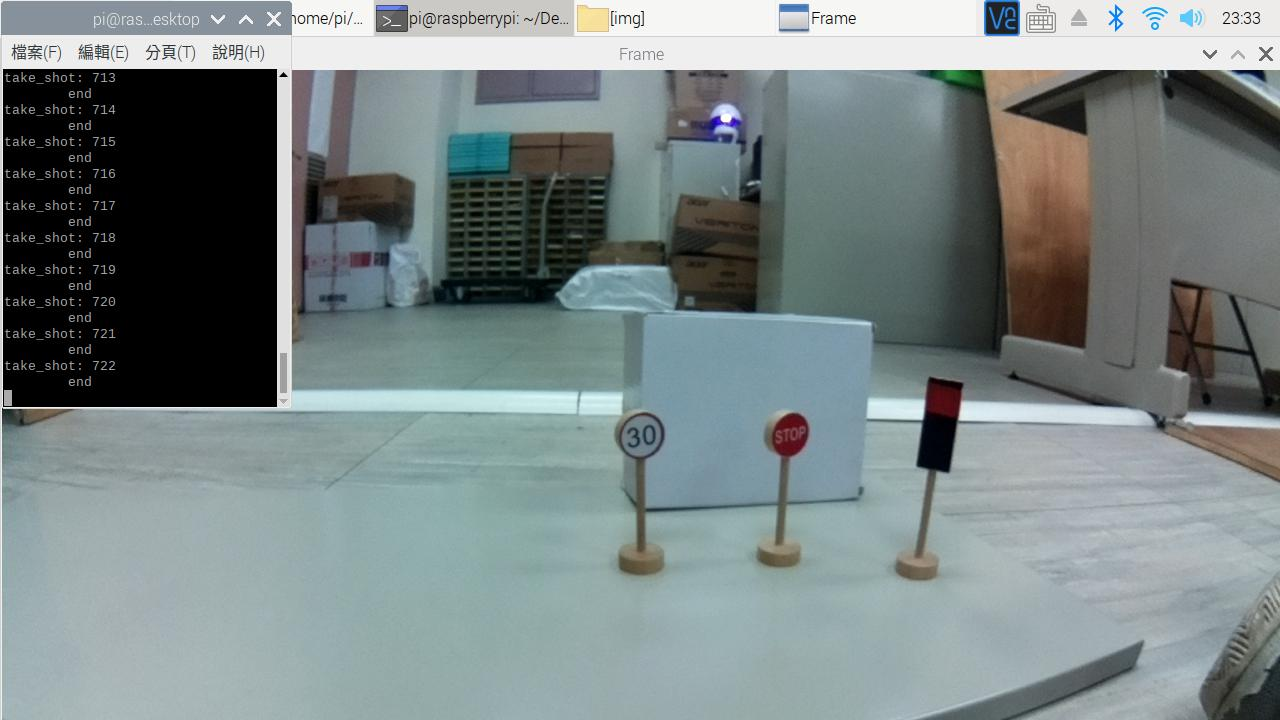Red: (916, 368, 968, 481)
Speed30: (605, 408, 673, 457)
Stop: (760, 408, 814, 455)
